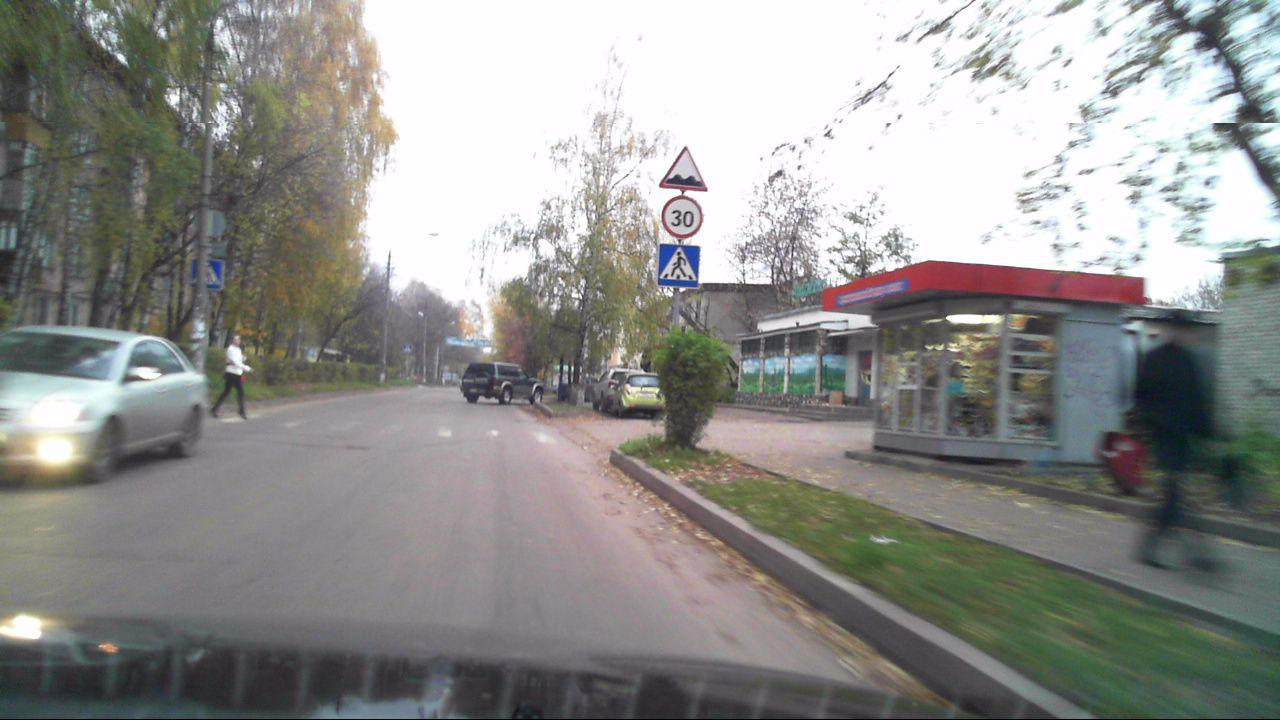1_16: (658, 146, 707, 193)
3_24: (661, 197, 705, 240)
5_19_1: (656, 244, 702, 287)
5_19_2: (194, 260, 223, 289)
